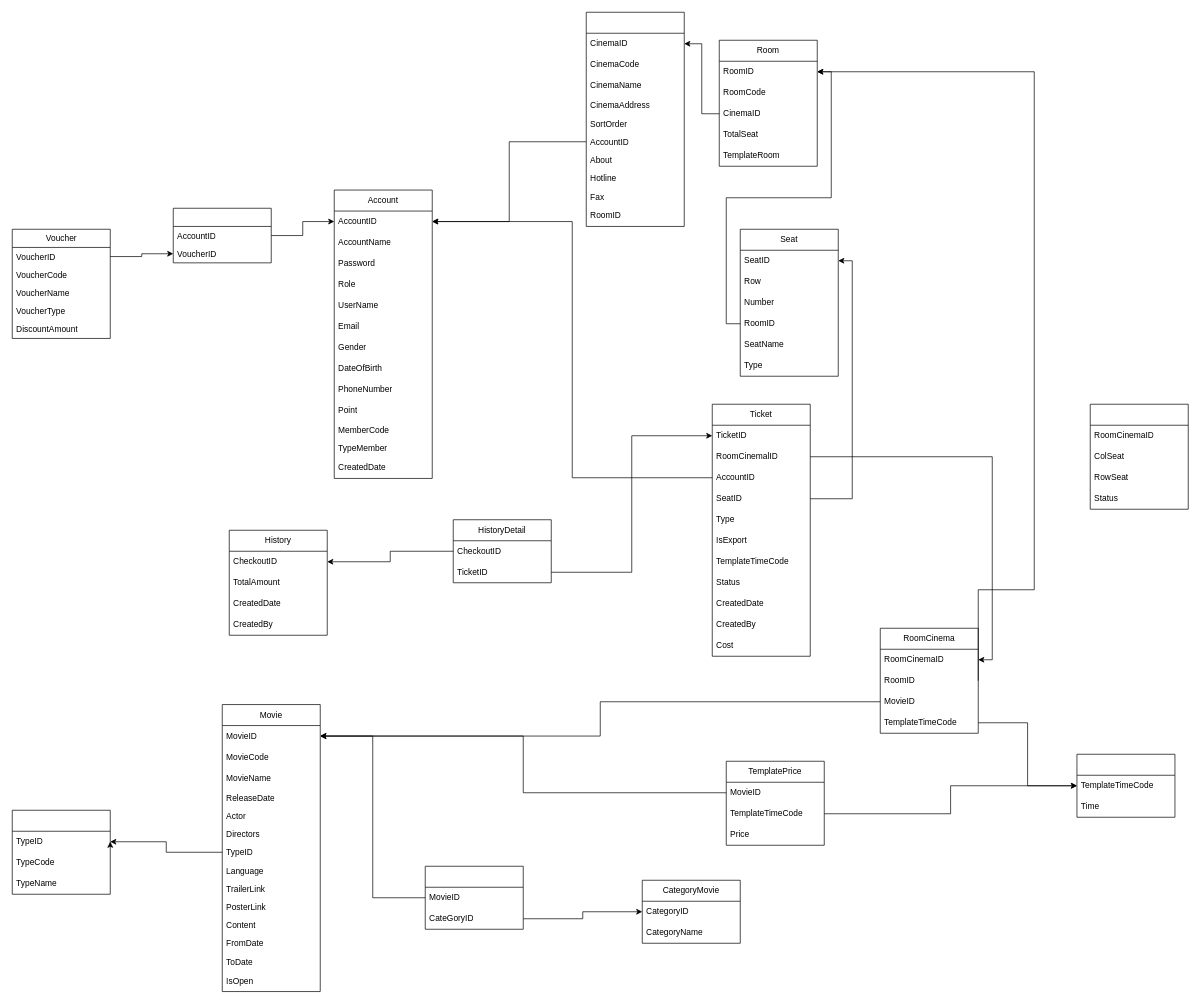
Some shapes in this 1201 by 1004 pixel diagram are drawn without their labels. Here are the shapes that lost their labels. From the top down, the box of each, then its label:
(586, 12, 684, 226): List_Cinema
(173, 208, 271, 263): AccountVoucher
(1090, 404, 1188, 509): StatsSeatRoom
(1076, 754, 1175, 817): TemplateTimeMovieOn
(12, 810, 110, 894): TypeMovie
(425, 866, 523, 929): MovieCategoryDetail
